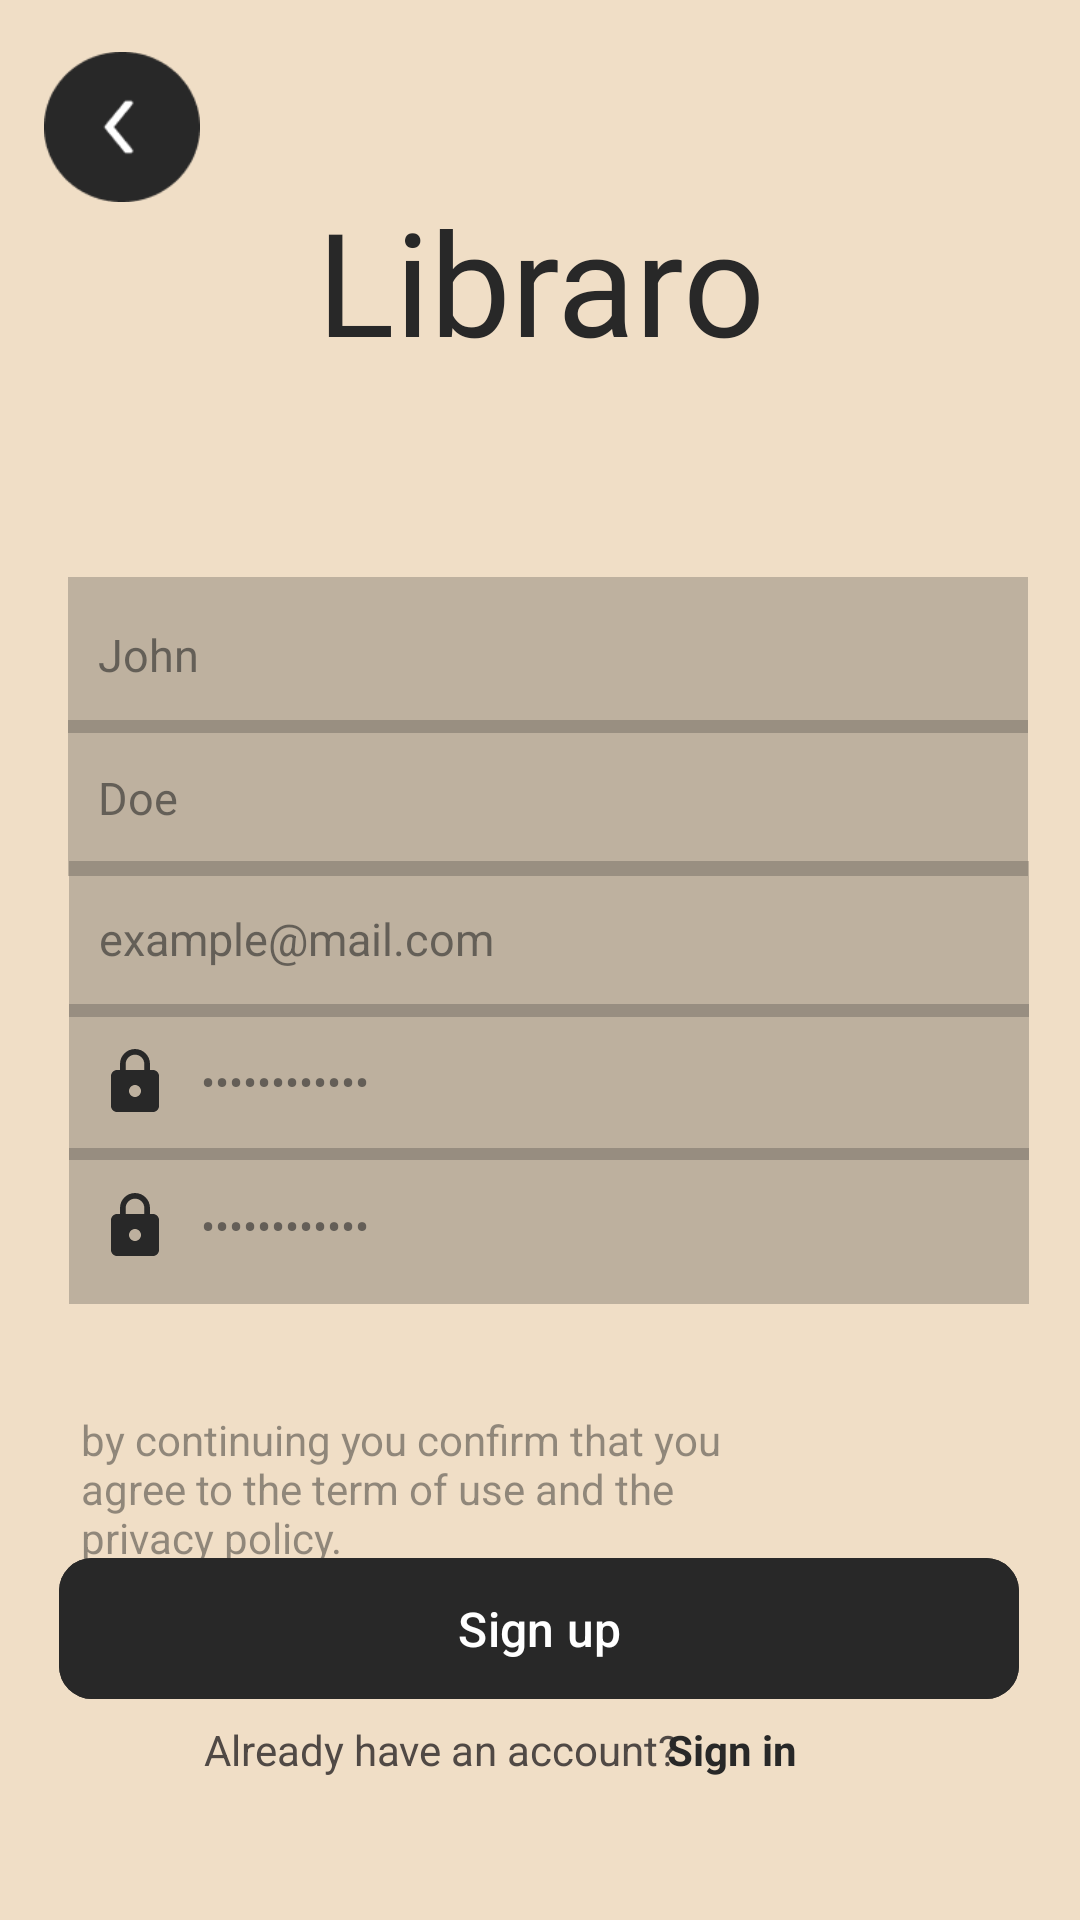

Icons on this 1080w x 1920h Android screen, each with its box as (x1, y1, x2, y2):
back to account page: (44, 52, 200, 202)
